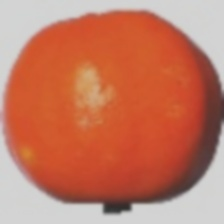tangerine: (0, 14, 185, 194)
